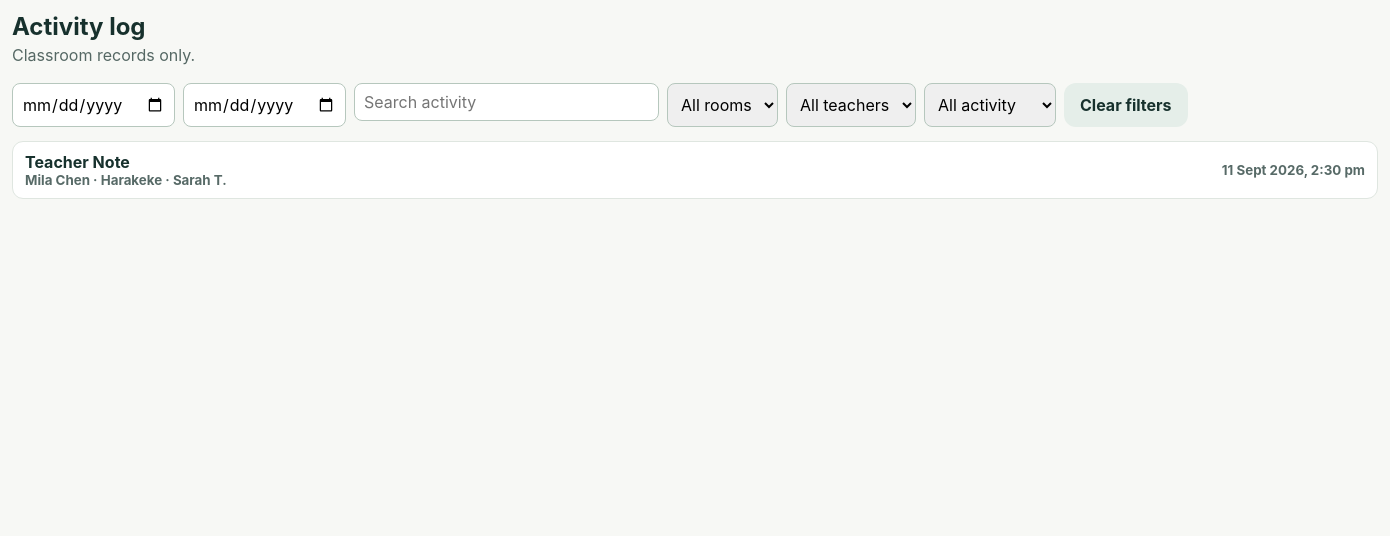
Test case: Activity note presentation and privileged reveal › shows Teacher note text directly without raw JSON
The width and height of the screenshot is (1390, 536).
Click the button that starts with "Teacher Note". click: {"x": 77, "y": 162}
box: top-left (12, 141), bottom-right (1378, 199)
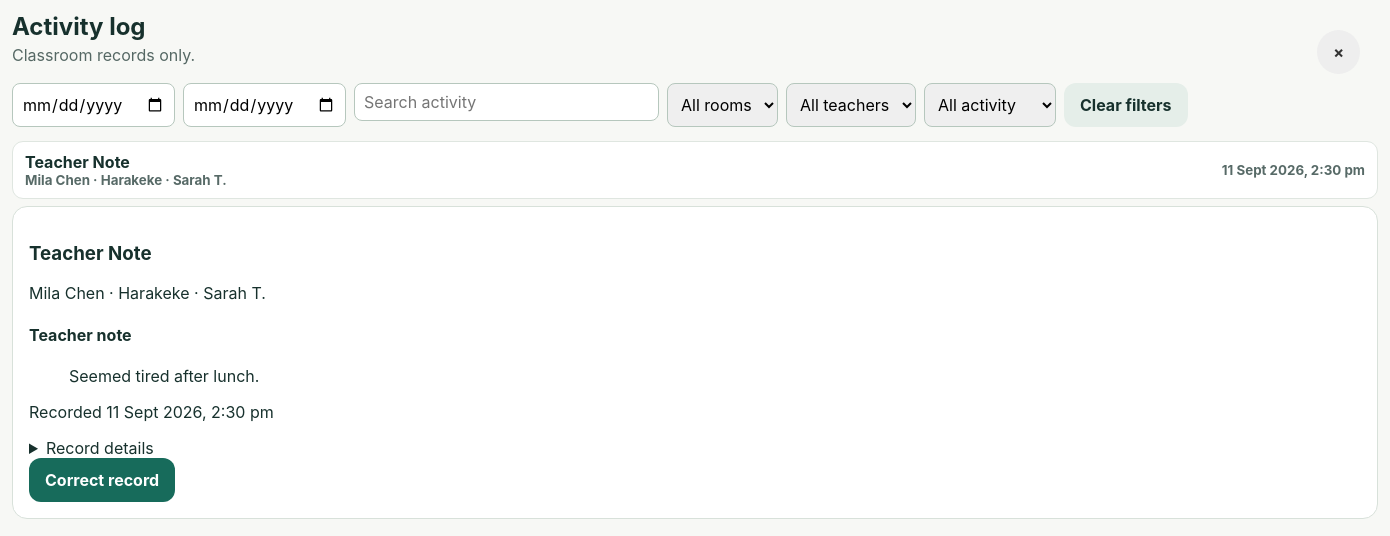
Now the text "Seemed tired after lunch." is shown, box top-left (69, 366), bottom-right (259, 386)
